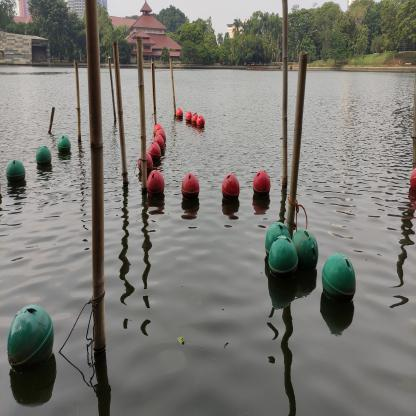green_buoy: (6, 303, 56, 378), (321, 252, 357, 306), (268, 234, 298, 282), (292, 228, 319, 276), (264, 220, 292, 261), (5, 159, 27, 185), (35, 145, 53, 168), (57, 134, 72, 155)
red_buoy: (220, 173, 240, 204), (252, 169, 272, 198), (181, 173, 200, 203), (146, 168, 165, 198), (138, 151, 154, 176), (148, 141, 161, 166), (154, 135, 166, 153), (155, 128, 167, 145), (152, 122, 163, 136), (409, 166, 415, 191), (196, 116, 205, 130), (175, 107, 184, 120), (191, 112, 198, 126), (184, 111, 192, 123)
